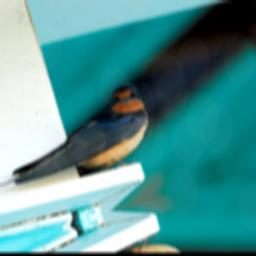Swallow: (0, 73, 163, 214)
